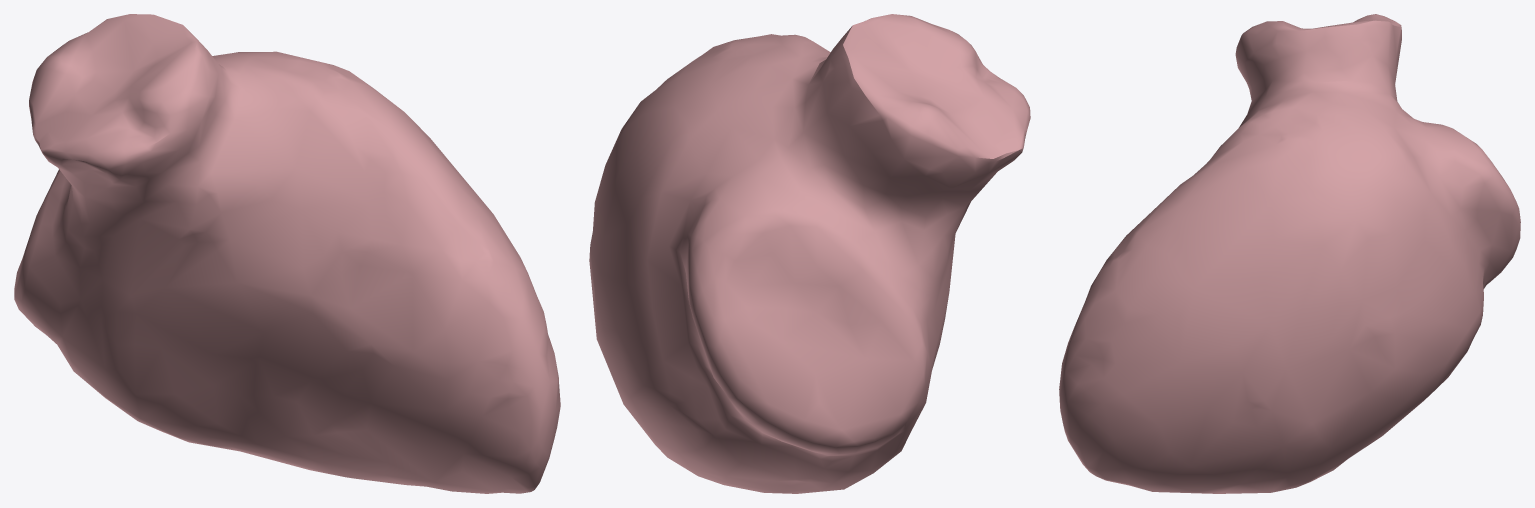
The model's file is fma9466_fj2422.glb.
3 views of the same model, side by side, from view 1: azimuth 30°, elevation 25°; view 2: azimuth 150°, elevation 25°; view 3: azimuth 270°, elevation 25° (orthographic). The views are drawn at different scales.
Parts seen in each view (by area): view 1: FMA9466_FJ2422; view 2: FMA9466_FJ2422; view 3: FMA9466_FJ2422.
Part boxes in pixels (x1=…): FMA9466_FJ2422: x1=14, y1=14, x2=560, y2=493; FMA9466_FJ2422: x1=589, y1=14, x2=1030, y2=493; FMA9466_FJ2422: x1=1059, y1=14, x2=1520, y2=493.
Bounding box in the file's own units: 0.0638 × 0.0675 × 0.0721.
